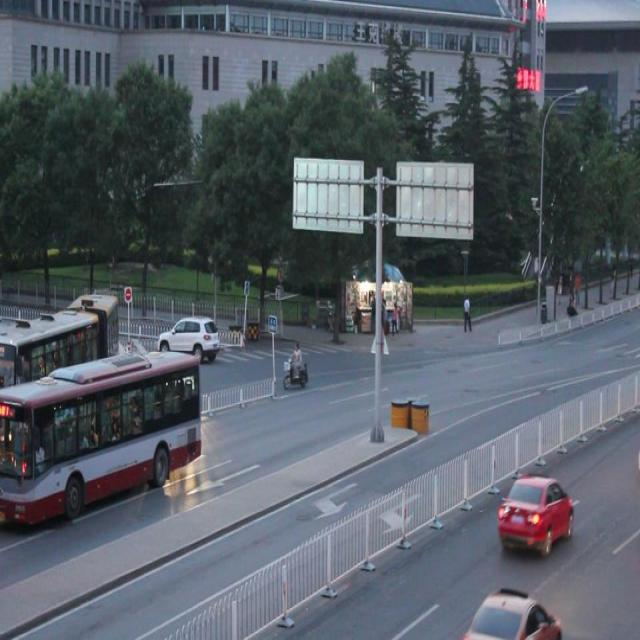car: (496, 470, 574, 556), (463, 580, 560, 640), (162, 309, 223, 359), (121, 332, 167, 387)
van: (1, 353, 202, 526), (0, 292, 120, 417)
